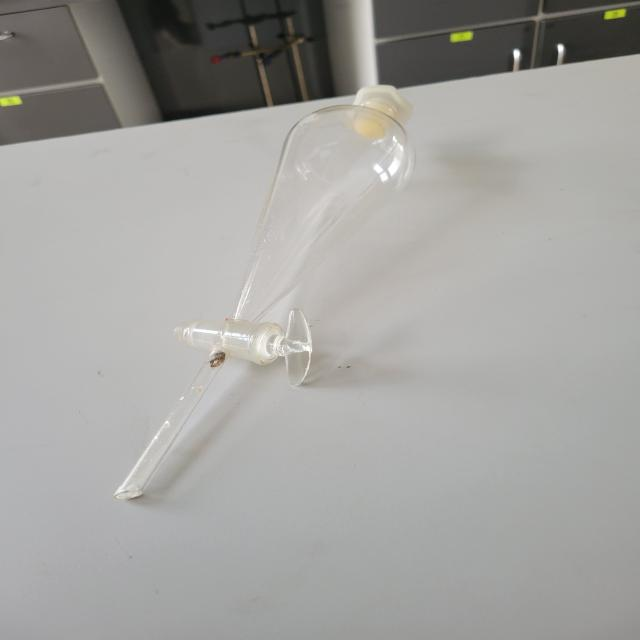Separating_Funnel: (83, 51, 467, 534)
